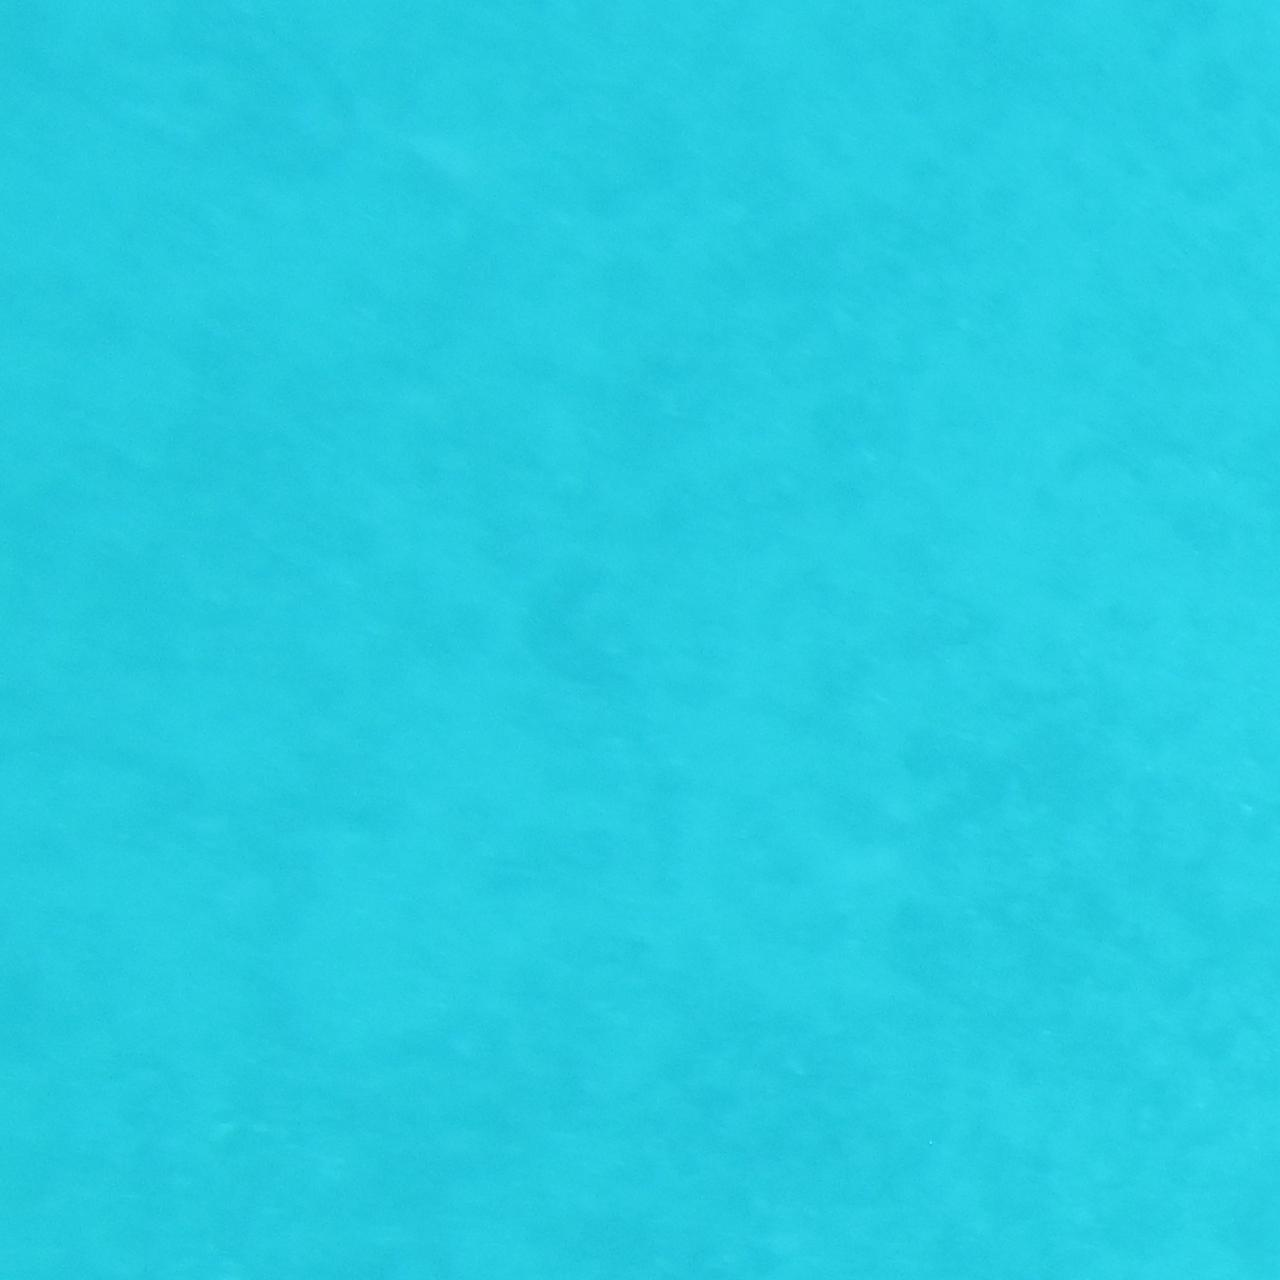Holothuria tubulosa: (501, 562, 633, 718)
